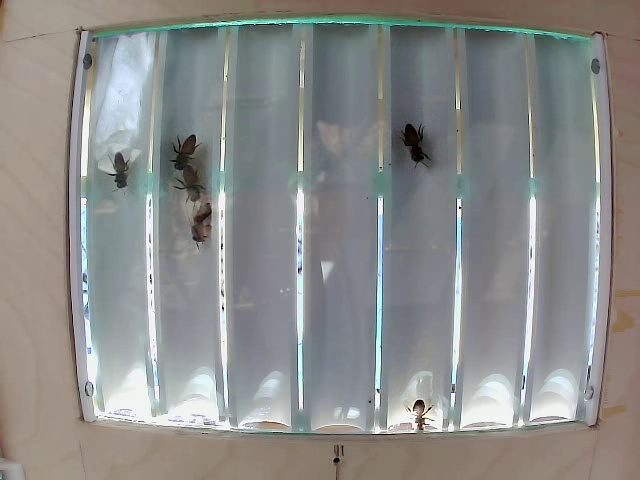bee: (183, 201, 224, 250), (392, 112, 433, 159), (172, 158, 210, 200), (99, 149, 141, 184), (169, 128, 204, 166)
